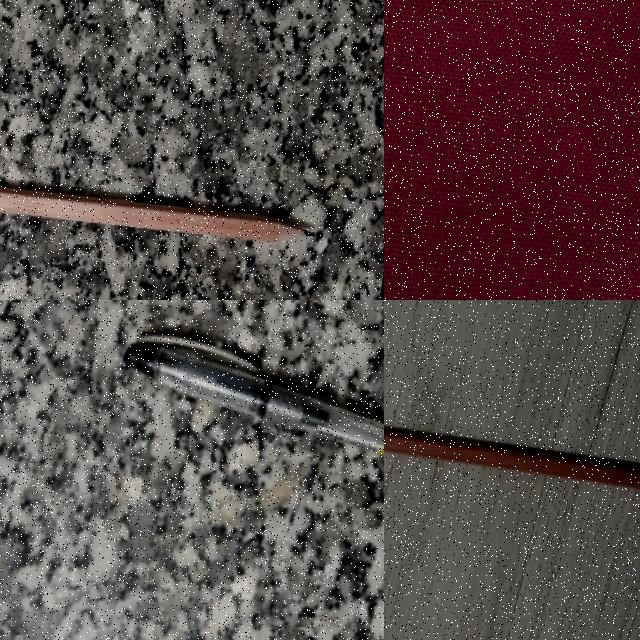pen: (124, 328, 384, 457)
pencil: (0, 187, 307, 242), (384, 430, 639, 488)
signature pen: (477, 0, 495, 0)
